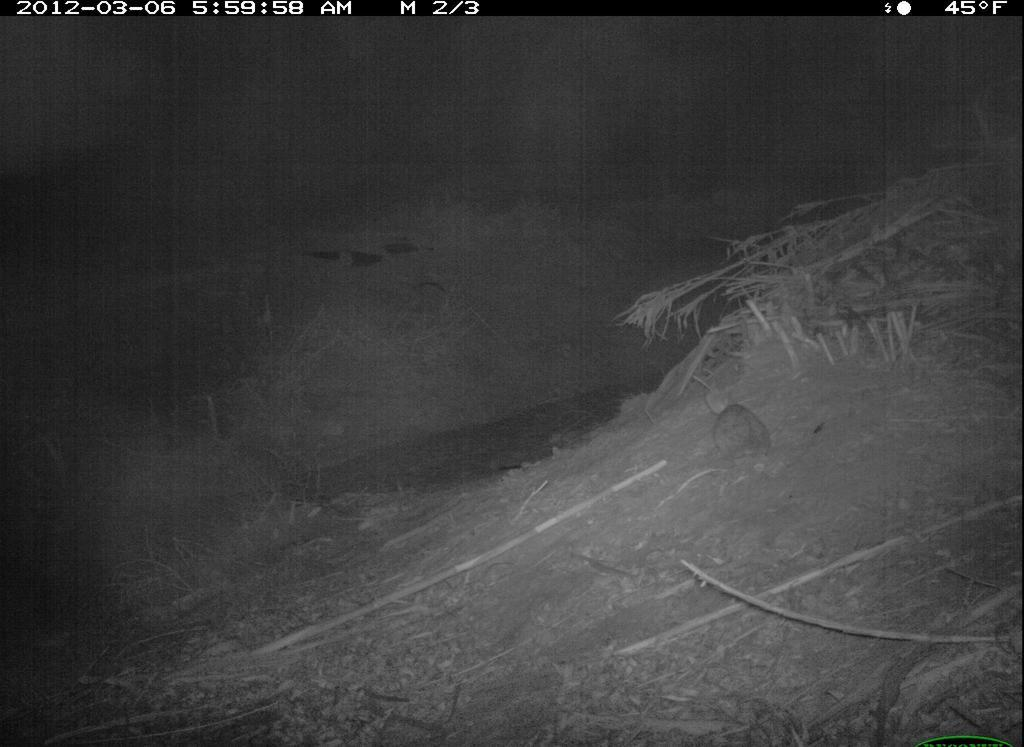rabbit: (697, 399, 781, 479)
